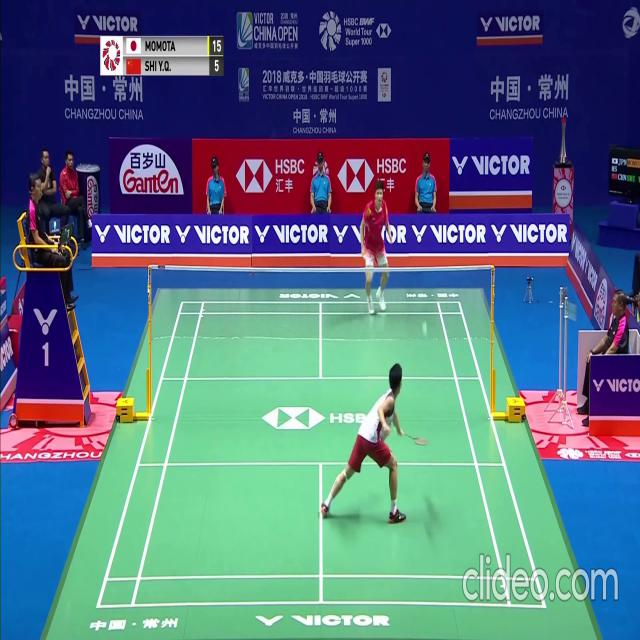Shuttlecock: (422, 322, 427, 329)
